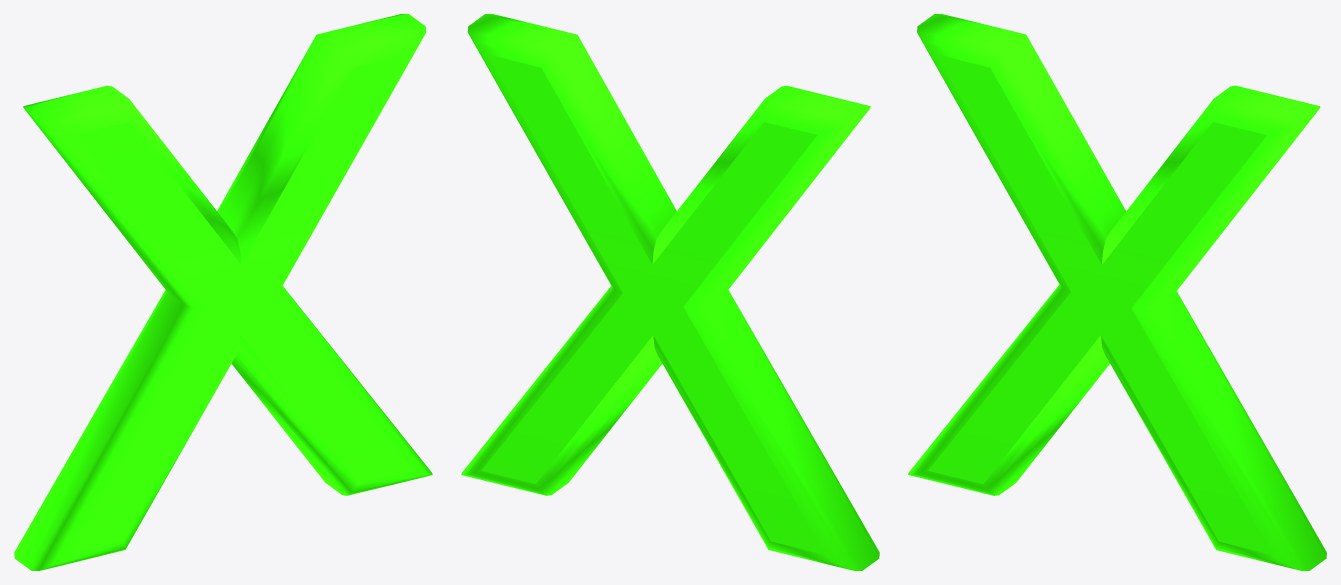
The picture shows the model from 3 angles, left to right: view 1: azimuth 30°, elevation 25°; view 2: azimuth 150°, elevation 25°; view 3: azimuth 330°, elevation 25°; orthographic projection.
Visible parts, largest first — view 1: IndicatorXGreen; view 2: IndicatorXGreen; view 3: IndicatorXGreen.
Part boxes in pixels (x1=…): IndicatorXGreen: x1=14, y1=14, x2=432, y2=570; IndicatorXGreen: x1=461, y1=14, x2=879, y2=570; IndicatorXGreen: x1=908, y1=14, x2=1326, y2=570.
Bounding box in the file's own units: 0.4438 × 0.4743 × 0.0645.
Materials: 1 (1 with a texture image).
